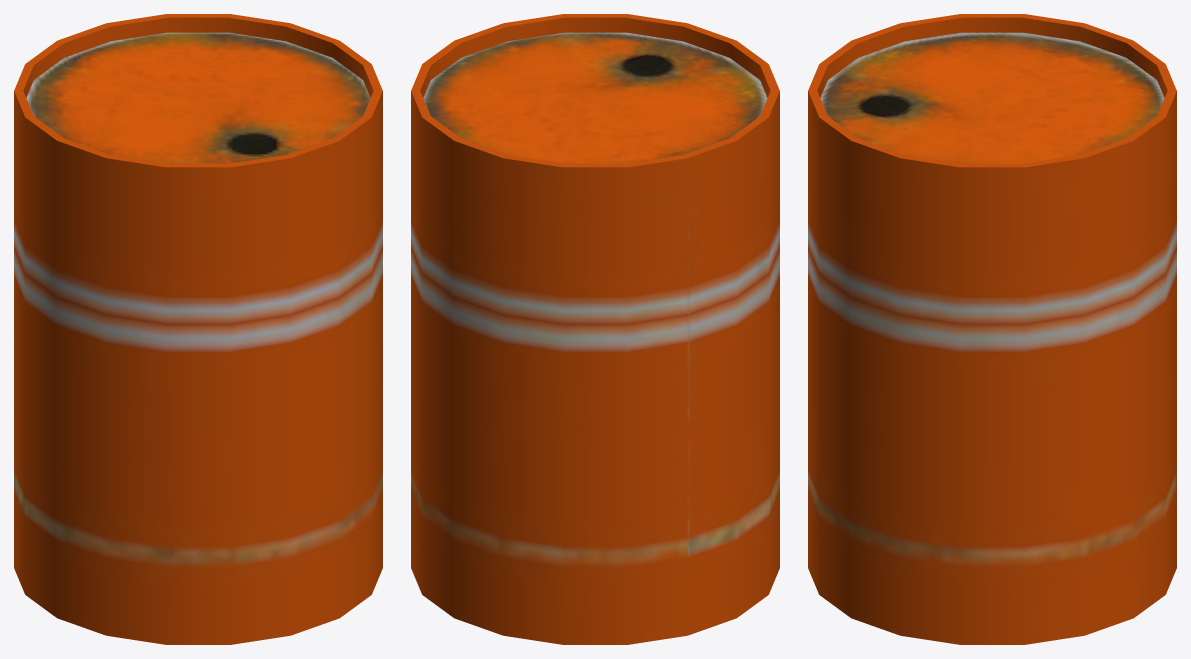
The model's file is metal_drum_4.fbx.
3 views of the same model, side by side, from view 1: azimuth 30°, elevation 25°; view 2: azimuth 150°, elevation 25°; view 3: azimuth 270°, elevation 25° (orthographic).
Visible parts, largest first — view 1: Barrel1__4_2; view 2: Barrel1__4_2; view 3: Barrel1__4_2.
Boxes of the visible parts, x1=… form: Barrel1__4_2: x1=14, y1=14, x2=382, y2=644; Barrel1__4_2: x1=411, y1=14, x2=779, y2=644; Barrel1__4_2: x1=808, y1=14, x2=1176, y2=644.
Bounding box in the file's own units: 58.27 × 84.53 × 59.17.
